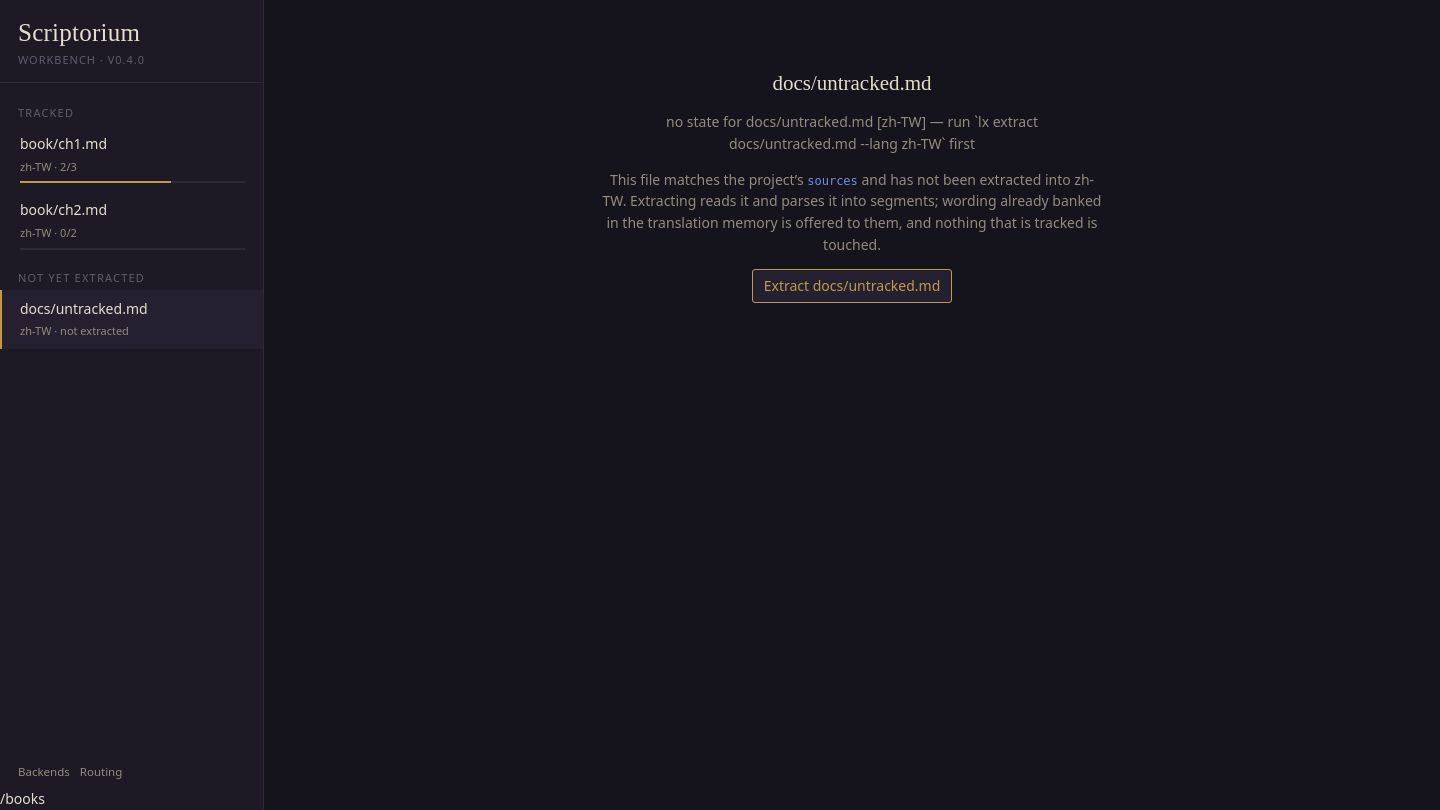
Test case: the rail's Not yet extracted entry › offers the same page to a hand-typed link, and adds no history entry of its own
Step 1. Click the button "Extract docs/untracked.md" → (852, 286), box 752,269 -> 952,303
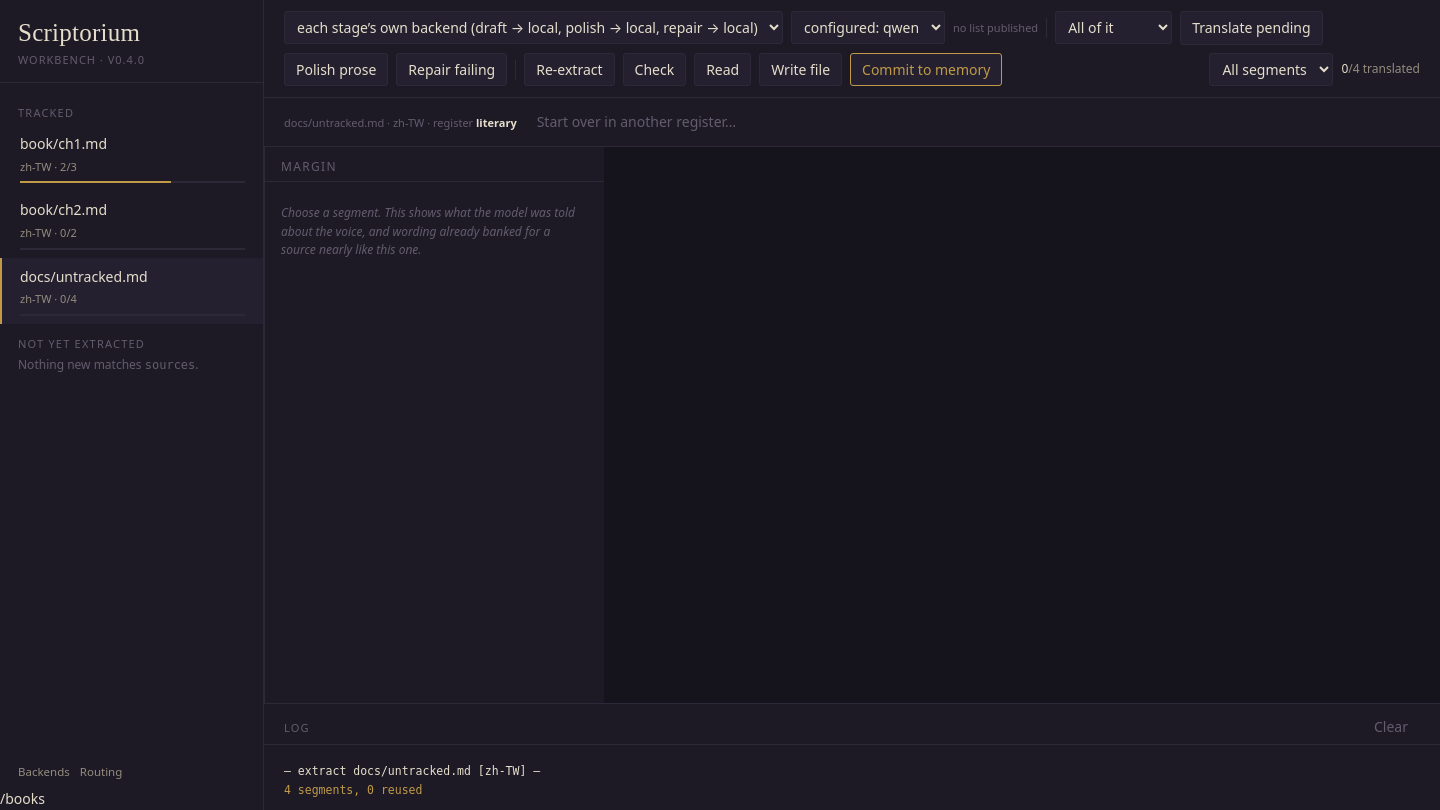
Result: the text "/4 translated" is shown at 1341,60 -> 1420,79
